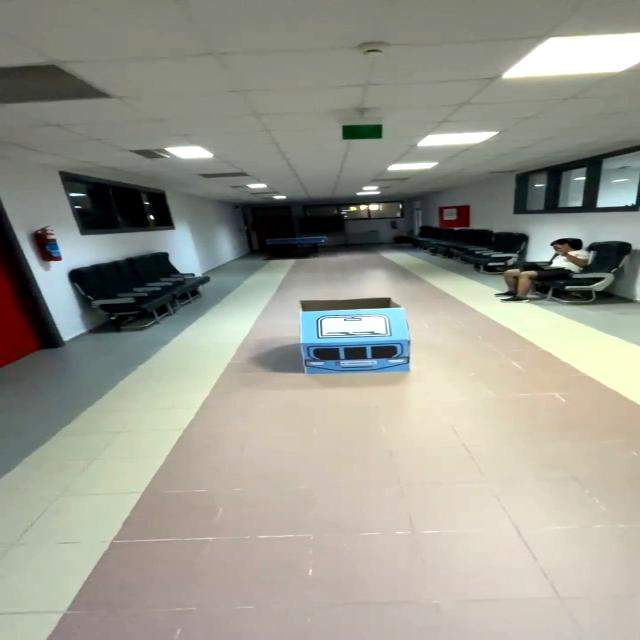blue_car: (263, 287, 440, 388)
